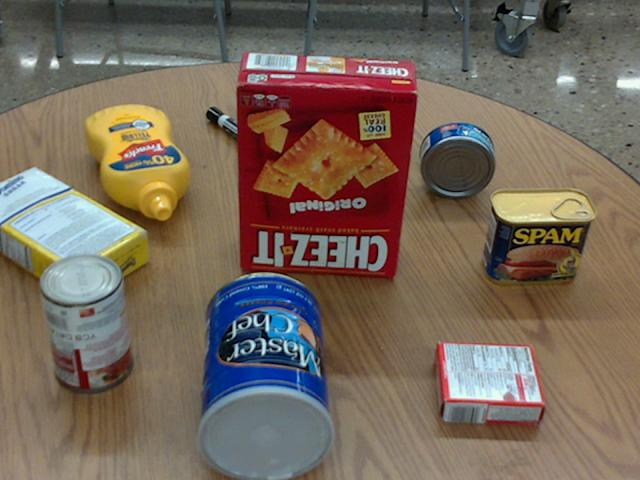cracker_box: (235, 53, 418, 274)
gelatin_box: (433, 341, 546, 423)
large_marker: (205, 107, 272, 156)
master_chef_can: (199, 272, 335, 479)
mug: (289, 61, 378, 150)
mustard_bottle: (84, 105, 189, 219)
potted_meat_can: (481, 187, 595, 285)
sugar_box: (0, 163, 148, 304)
tomato_soup_can: (38, 252, 133, 392)
tuna_fish_can: (418, 121, 493, 197)
